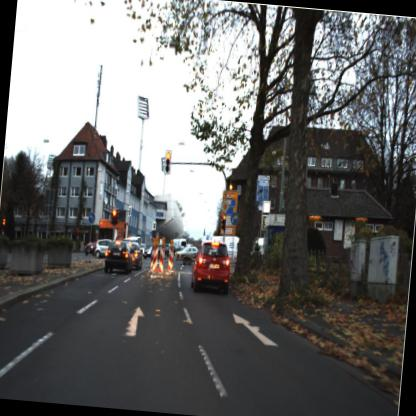mandatory: (84, 208, 98, 228), (230, 212, 241, 228)
other: (219, 200, 230, 215)
